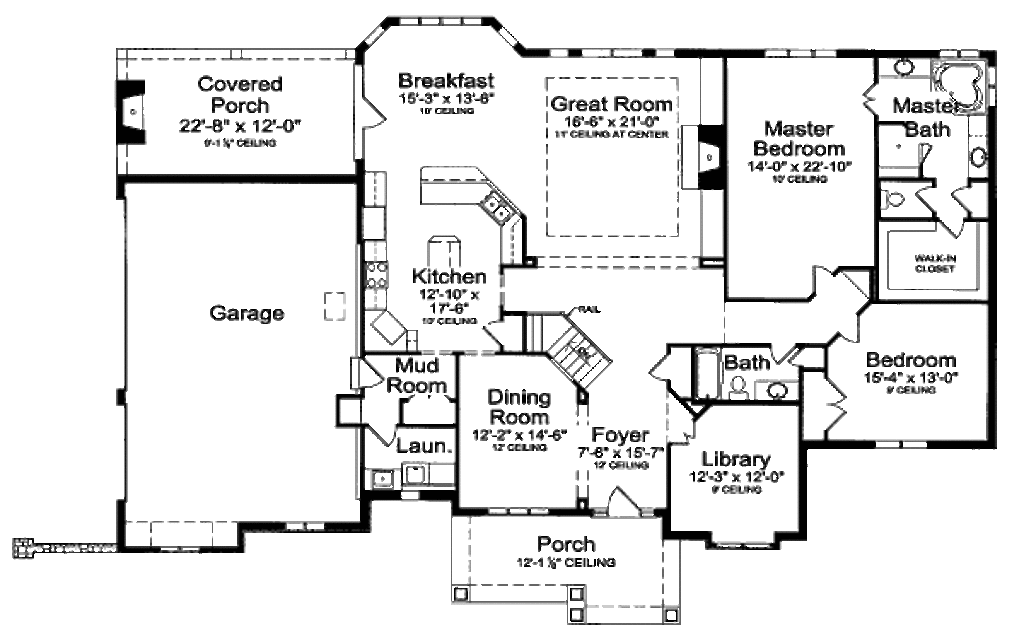door: (812, 374, 846, 435), (603, 483, 643, 522), (642, 347, 681, 380), (362, 97, 396, 131), (350, 358, 388, 388), (764, 340, 803, 366), (480, 316, 508, 351), (857, 74, 881, 111), (840, 313, 866, 347), (913, 182, 939, 212), (369, 420, 394, 451), (915, 140, 940, 171), (812, 259, 834, 293), (938, 215, 975, 232)
kitchen_bar: (408, 223, 476, 315)
large_sink: (880, 183, 911, 214), (728, 368, 750, 402)
sink: (373, 463, 398, 489)
small_sink: (760, 377, 801, 406), (962, 141, 990, 174), (890, 55, 920, 79)
stairs: (517, 316, 618, 391)
tub: (695, 337, 728, 401)
twin_sink: (478, 182, 525, 232)
window: (761, 39, 842, 62), (394, 14, 488, 30), (872, 431, 928, 449), (714, 539, 768, 554), (483, 506, 548, 518)
